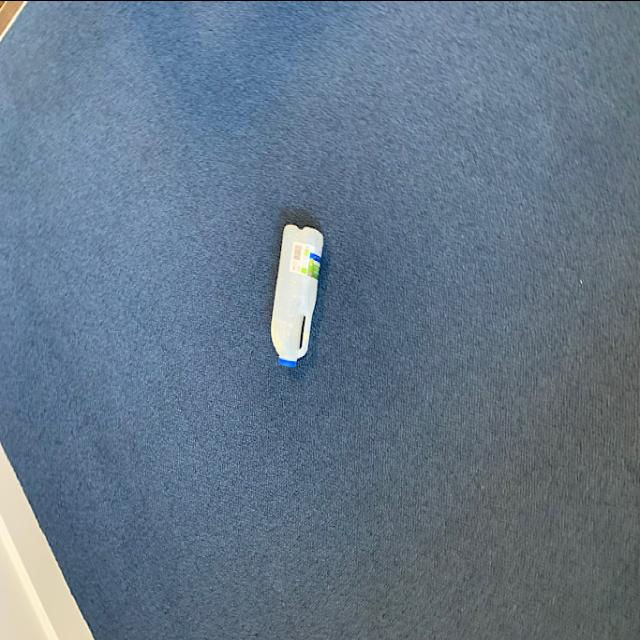HDPEM: (267, 208, 331, 374)
